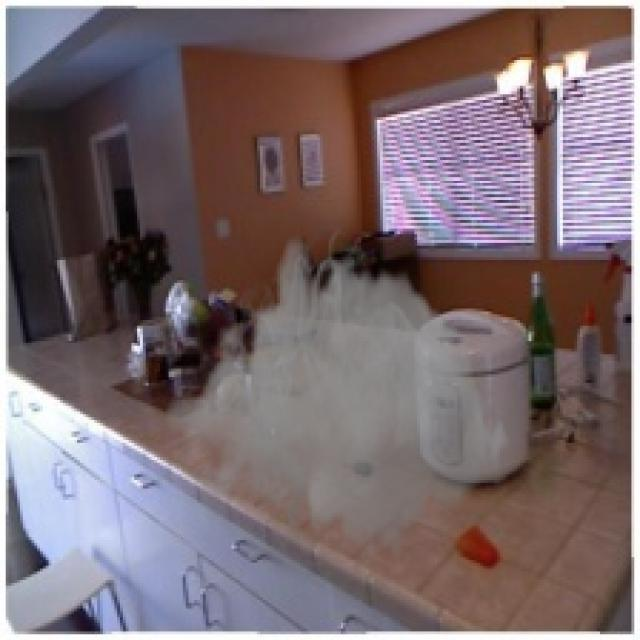Smoke: (163, 223, 512, 586)
